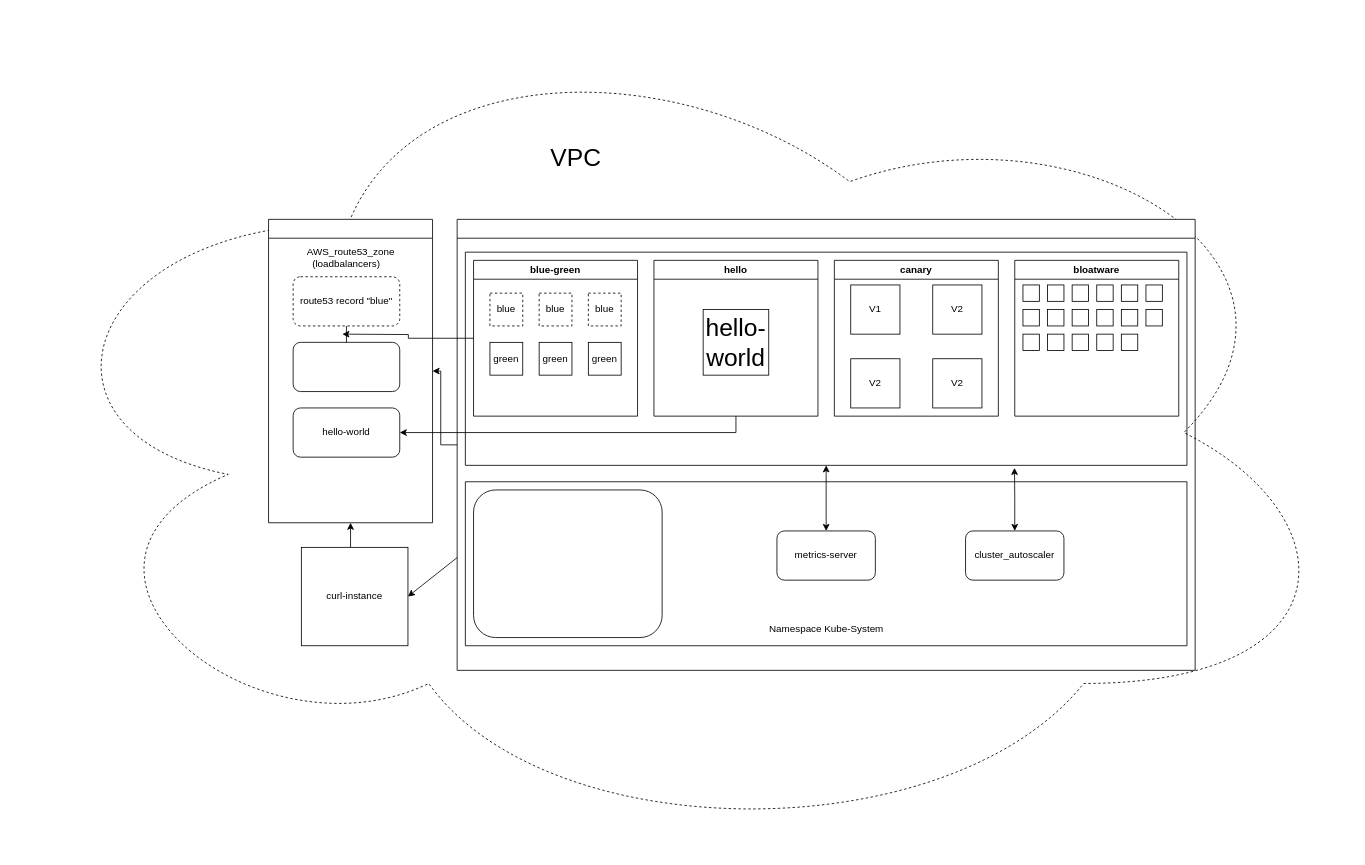
The diagram is 1365 pixels wide and 865 high, and some of its shapes have lost their labels. The shapes that lost their labels are listed below. From the top down, each one's box as (x1, y1, x2, y2) in pixels, then its label:
(292, 342, 400, 392): route53 record "green"
(268, 219, 433, 523): udacityproject
(465, 251, 1187, 465): Namespace udacity
(456, 219, 1195, 670): udacity-cluster
(473, 489, 662, 638): aws-node coredns kube-proxy
